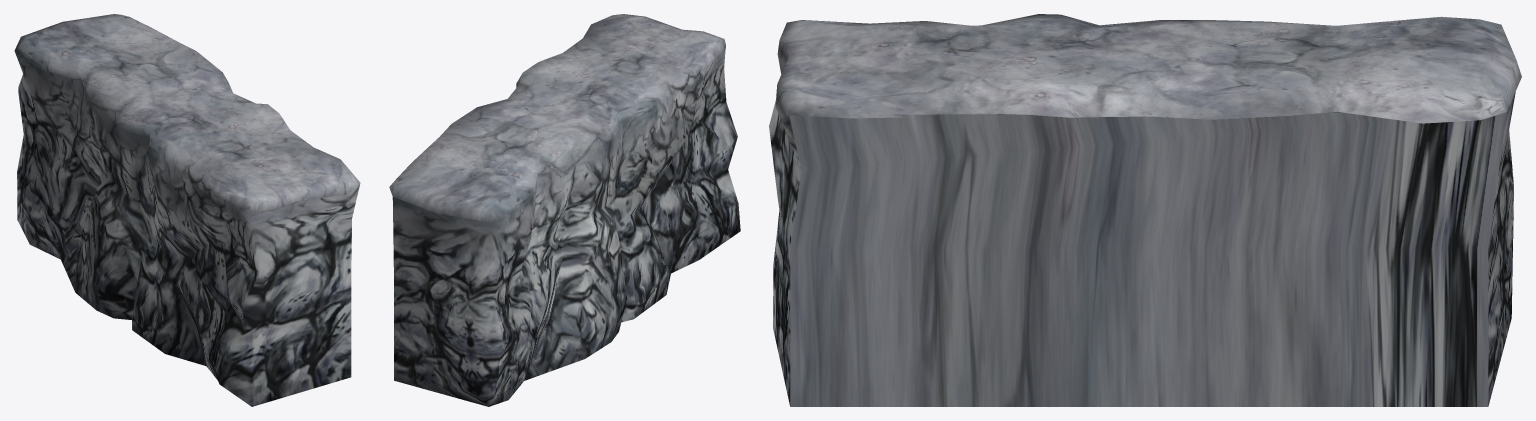
Rendered from STR_FloorCaveA.FBX.
3 views of the same model, side by side, from view 1: azimuth 30°, elevation 25°; view 2: azimuth 150°, elevation 25°; view 3: azimuth 270°, elevation 25° (orthographic). The views are drawn at different scales.
Parts seen in each view (by area): view 1: STR_FloorCaveA; view 2: STR_FloorCaveA; view 3: STR_FloorCaveA.
Part boxes in pixels (<box>): STR_FloorCaveA: <box>14,14,360,406</box>; STR_FloorCaveA: <box>389,14,740,406</box>; STR_FloorCaveA: <box>769,14,1521,406</box>.
Size of the model in its own units: 291 by 405 by 863.
